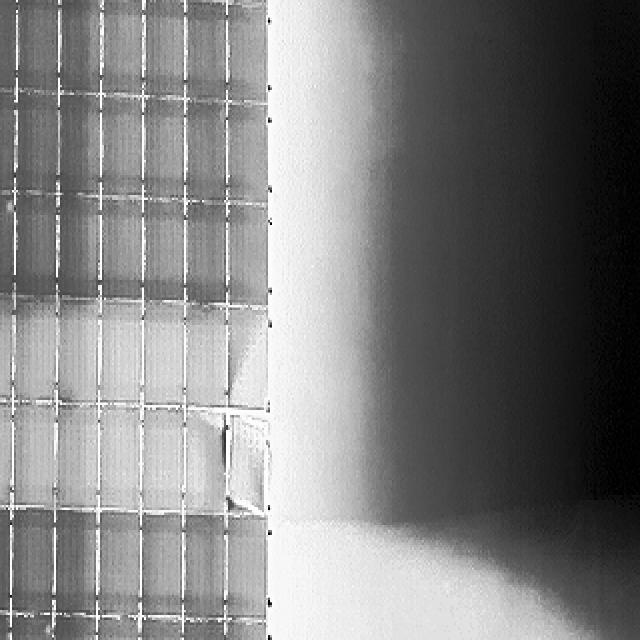PV-modules: (12, 510, 57, 617), (94, 403, 139, 510), (93, 512, 138, 619), (95, 96, 141, 199), (54, 194, 99, 298), (185, 411, 229, 517), (96, 200, 140, 306), (12, 191, 56, 297), (95, 298, 139, 404), (54, 511, 98, 617), (14, 403, 58, 508), (14, 298, 58, 403), (56, 300, 100, 405), (16, 94, 61, 196), (185, 306, 229, 410), (139, 407, 182, 512), (223, 516, 266, 621), (224, 303, 267, 408), (224, 206, 267, 311), (185, 2, 229, 104), (56, 408, 99, 512), (138, 515, 181, 619), (140, 303, 182, 408), (185, 515, 226, 622), (185, 204, 228, 306), (224, 103, 267, 204), (140, 202, 182, 304), (140, 99, 182, 201), (58, 96, 100, 198), (102, 1, 146, 98), (230, 2, 270, 108), (140, 1, 183, 99), (230, 411, 270, 514), (57, 1, 100, 96), (187, 102, 227, 204), (19, 1, 61, 94), (0, 190, 16, 295), (0, 88, 16, 190), (0, 0, 18, 90), (0, 295, 14, 400), (0, 402, 12, 510), (136, 615, 180, 640), (6, 617, 52, 640), (90, 620, 136, 640), (52, 620, 96, 640), (184, 620, 226, 640), (222, 622, 264, 640), (0, 507, 6, 615), (0, 617, 4, 640)
